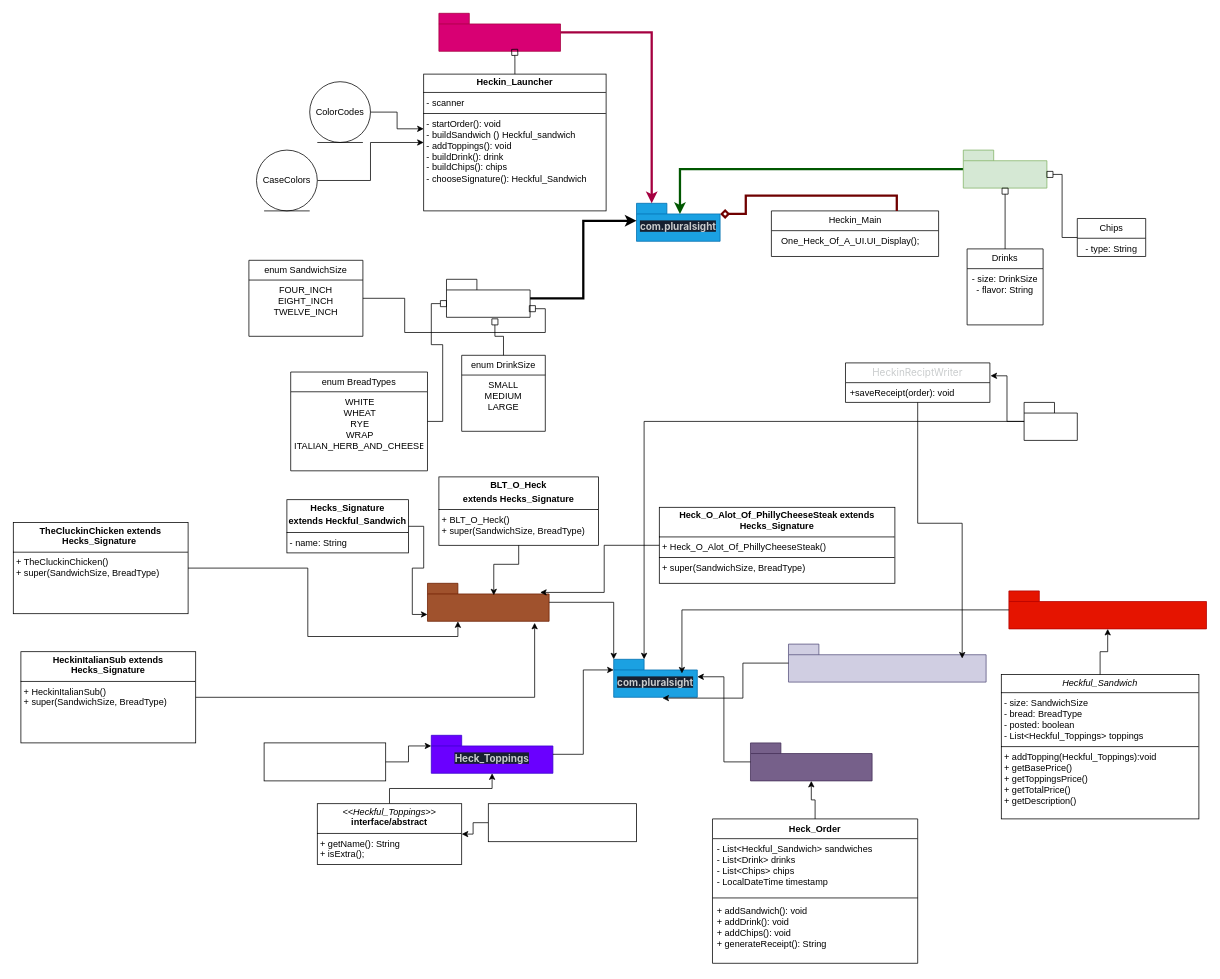
Image size: 1220x979. Some labels were removed from this diagram. Here are the shapes that lost their labels. From the top down, the centre of each, then its label:
At pixel 499 32: "UI_OF_THE_DANGED".
At pixel 1005 168: "com.Sides".
At pixel 488 298: "Heck_Emuns".
At pixel 1050 421: "receipts".
At pixel 488 602: "Hecks_Signatures".
At pixel 1107 609: "One_Heck_of_a_Sandwich_Package".
At pixel 887 662: "Your_Soulful_Recipts".
At pixel 324 761: "Heckful_RegularToppings - name: String".
At pixel 811 761: "Heckful_Order".
At pixel 562 822: "Heckful_PremiumToppings - name: String".
